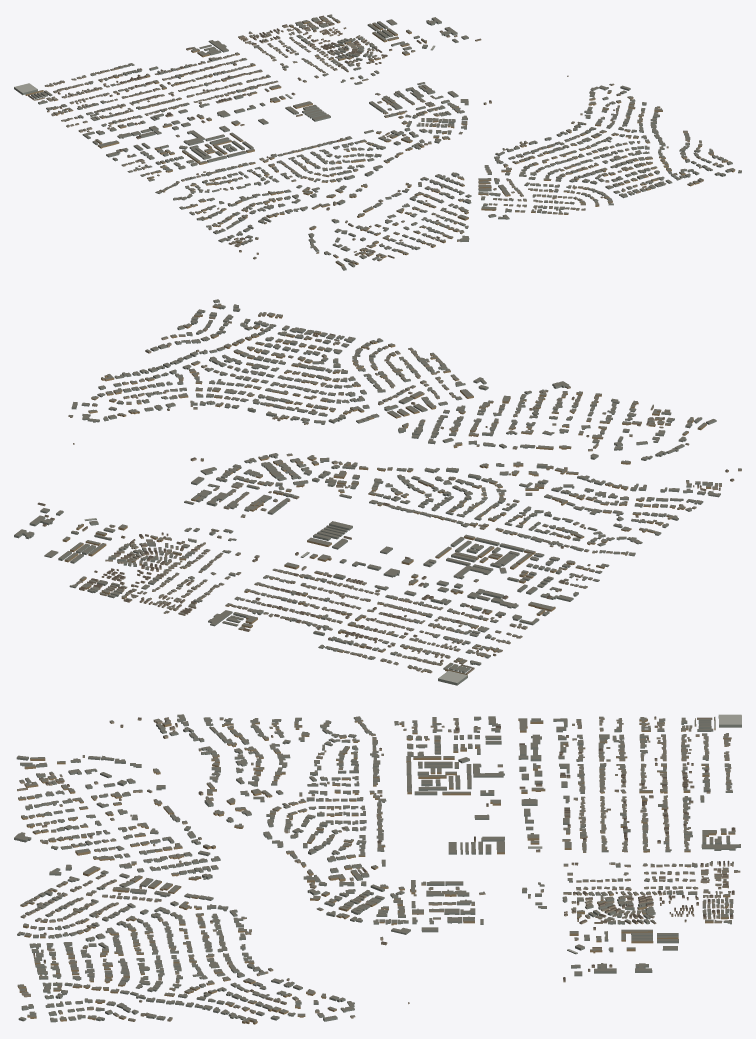
File: BuildingsFar.glb
3 renders of one model, top to bottom at view 1: azimuth 30°, elevation 25°; view 2: azimuth 150°, elevation 25°; view 3: azimuth 270°, elevation 25°, orthographic. The views are drawn at different scales.
Visible parts, largest first — view 1: BuildingsFar; view 2: BuildingsFar; view 3: BuildingsFar.
Boxes of the visible parts, <box> form: BuildingsFar: <box>14,14,741,270</box>; BuildingsFar: <box>14,299,741,685</box>; BuildingsFar: <box>14,714,741,1024</box>.
Size of the model in its own units: 2041 by 18.3 by 2038.
